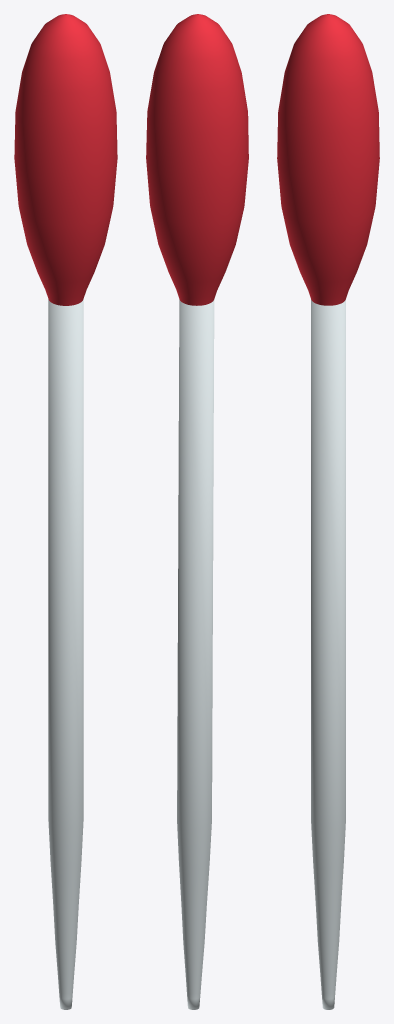
File: pipeline.fbx
The picture shows the model from 3 angles, left to right: view 1: azimuth 90°, elevation 25°; view 2: azimuth 210°, elevation 25°; view 3: azimuth 270°, elevation 25°; orthographic projection.
Parts seen in each view (by area): view 1: Pipet_Tetes; view 2: Pipet_Tetes; view 3: Pipet_Tetes.
Part boxes in pixels (left/top/right/bottom): Pipet_Tetes: left=14, top=14, right=117, bottom=1009; Pipet_Tetes: left=146, top=14, right=248, bottom=1009; Pipet_Tetes: left=277, top=14, right=379, bottom=1009.
Bounding box in the file's own units: 50 × 532 × 50.
